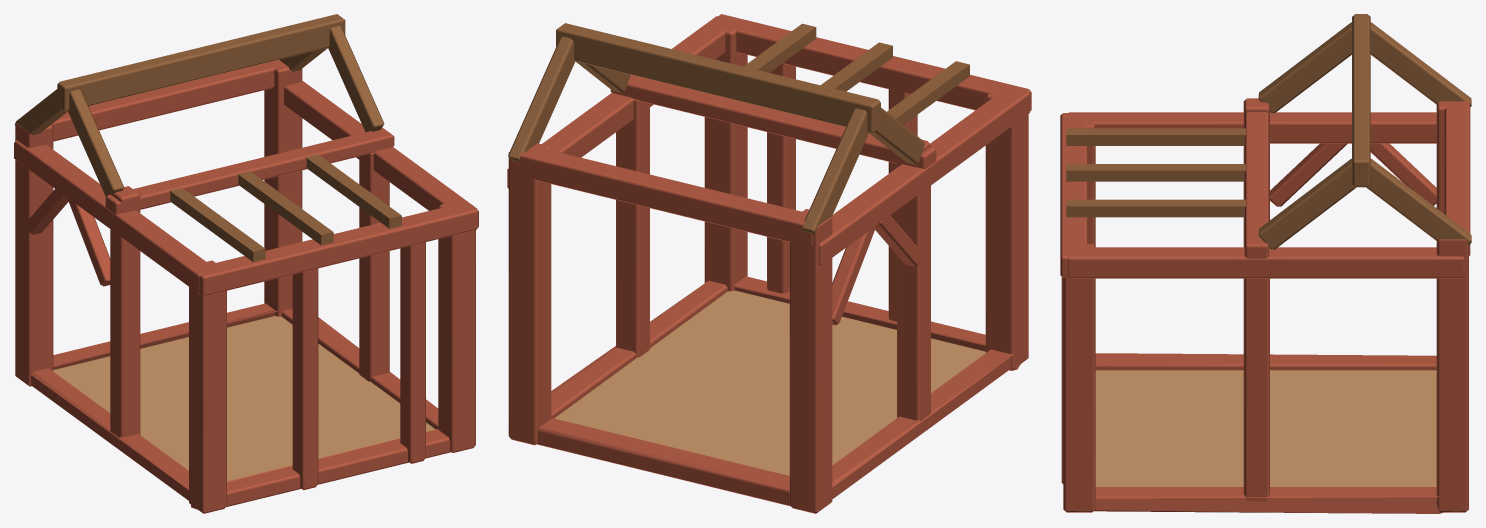
File: goat-shelter-frame.glb
3 views of the same model, side by side, from view 1: azimuth 30°, elevation 25°; view 2: azimuth 150°, elevation 25°; view 3: azimuth 270°, elevation 25° (orthographic). The views are drawn at different scales.
Parts seen in each view (by area): view 1: posts, plates, floor, ridge_rafters, sills, deck_joists; view 2: posts, plates, floor, sills, ridge_rafters, deck_joists; view 3: floor, plates, posts, ridge_rafters, sills, deck_joists.
Part boxes in pixels (x1=…): posts: x1=15, y1=60, x2=475, y2=513; plates: x1=14, y1=60, x2=478, y2=296; floor: x1=53, y1=316, x2=435, y2=481; ridge_rafters: x1=15, y1=14, x2=384, y2=197; sills: x1=31, y1=303, x2=450, y2=509; deck_joists: x1=169, y1=154, x2=401, y2=261; posts: x1=508, y1=16, x2=1028, y2=513; plates: x1=507, y1=14, x2=1031, y2=325; floor: x1=554, y1=290, x2=985, y2=475; sills: x1=537, y1=276, x2=1020, y2=506; ridge_rafters: x1=508, y1=23, x2=924, y2=234; deck_joists: x1=744, y1=23, x2=969, y2=124; floor: x1=1095, y1=370, x2=1436, y2=486; plates: x1=1060, y1=100, x2=1470, y2=278; posts: x1=1061, y1=98, x2=1468, y2=512; ridge_rafters: x1=1258, y1=14, x2=1471, y2=249; sills: x1=1094, y1=353, x2=1443, y2=513; deck_joists: x1=1066, y1=128, x2=1245, y2=217.
Bounding box in the file's own units: 2.28 × 2.55 × 2.68.
